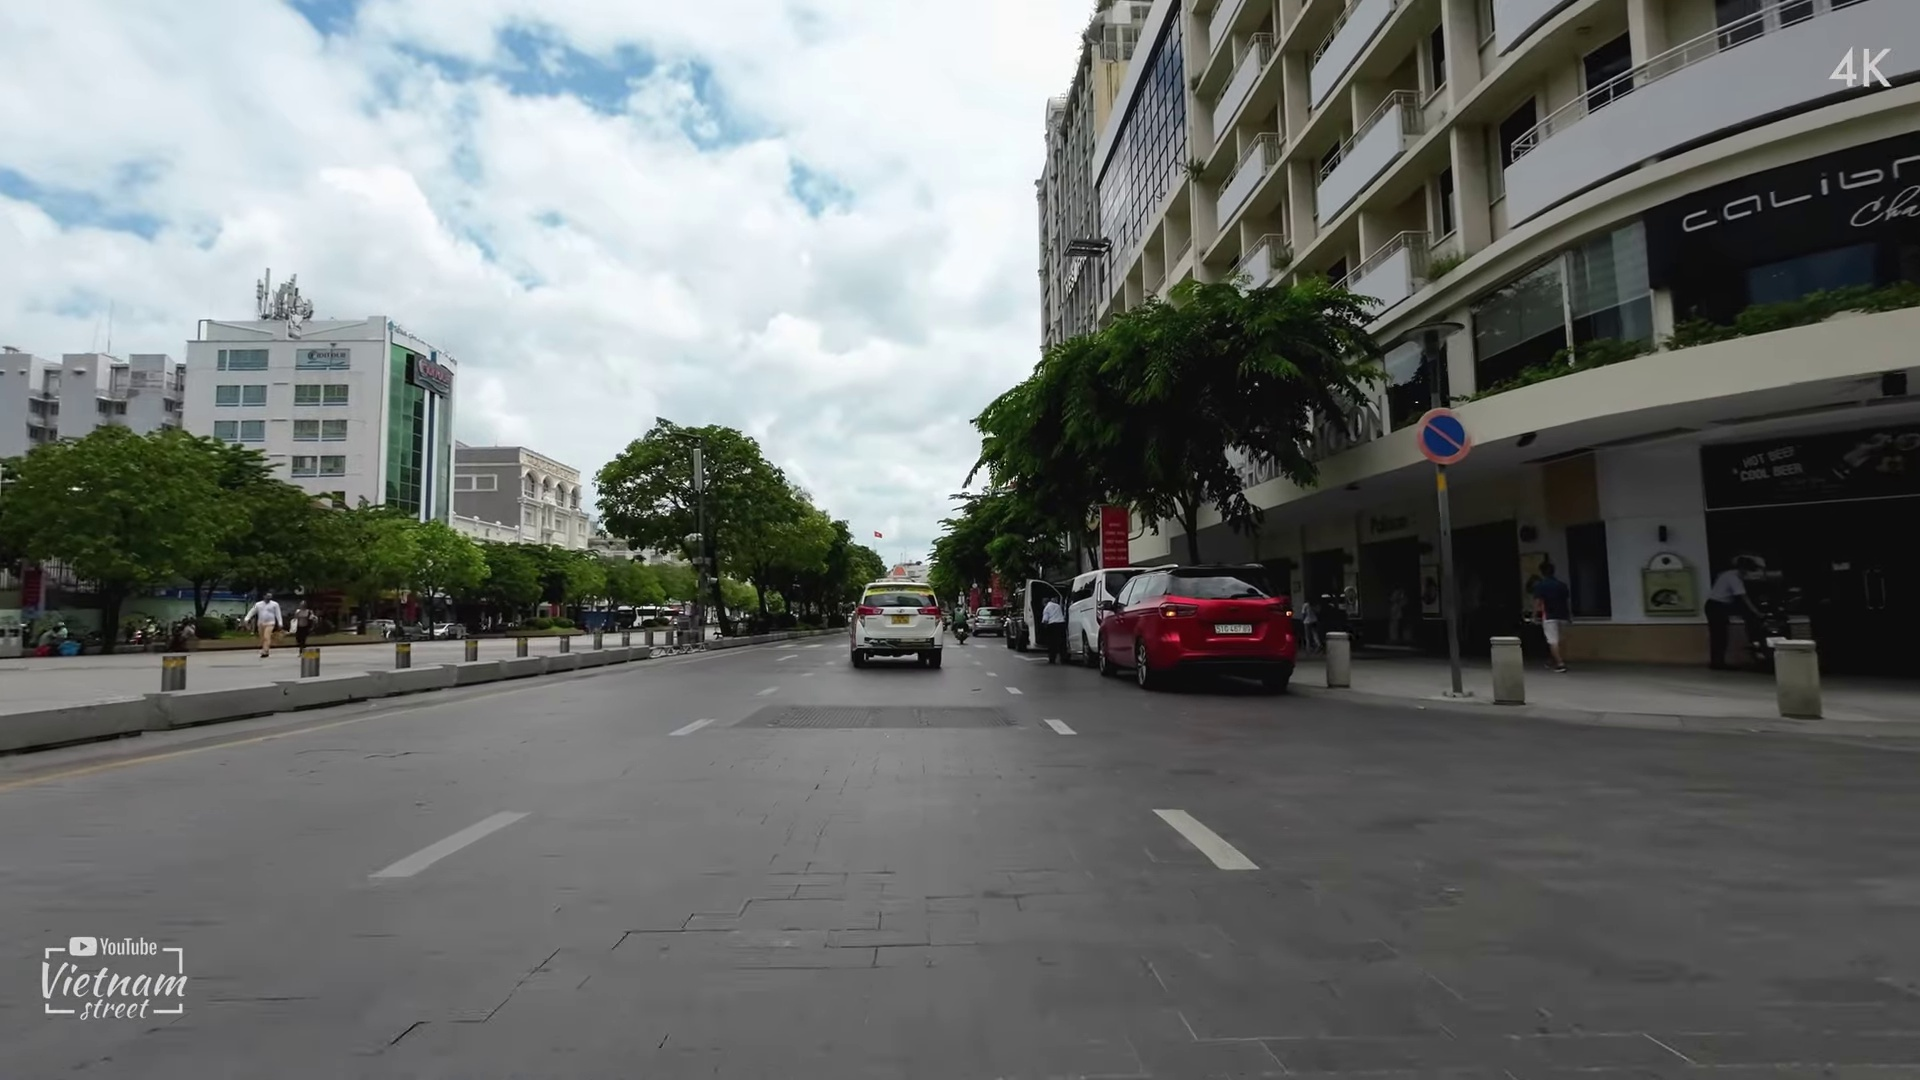cam_do_xe: (1411, 404, 1474, 469)
